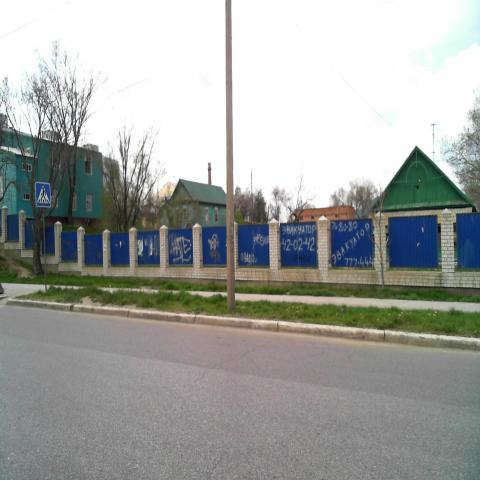5_19_1: (36, 181, 50, 207)
